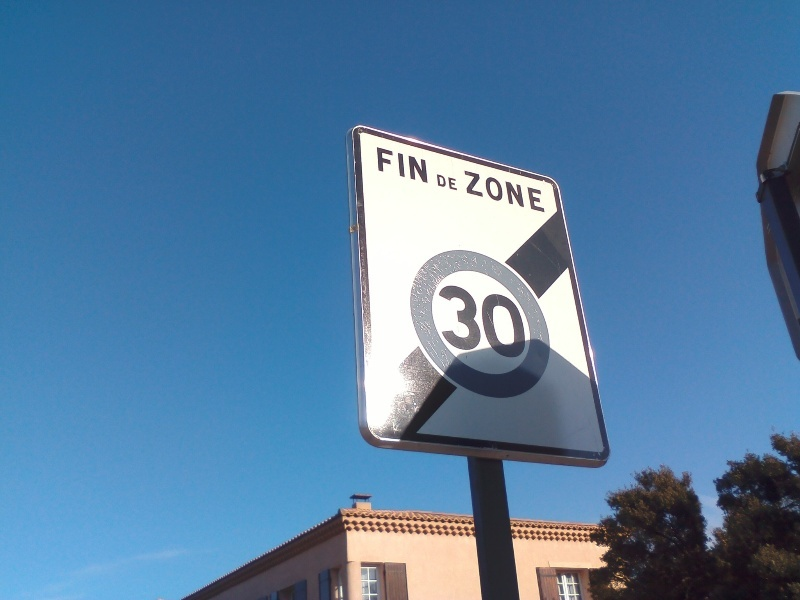text: (513, 280, 529, 361), (449, 280, 464, 361), (465, 280, 480, 361), (481, 280, 496, 361), (497, 280, 512, 361), (438, 280, 448, 361), (465, 170, 480, 213), (481, 170, 496, 213), (497, 170, 512, 213), (513, 170, 528, 213), (529, 170, 544, 213), (385, 147, 400, 184), (401, 147, 416, 184), (417, 147, 429, 184), (377, 147, 384, 184), (436, 174, 448, 192), (449, 174, 459, 192), (545, 170, 546, 213)
